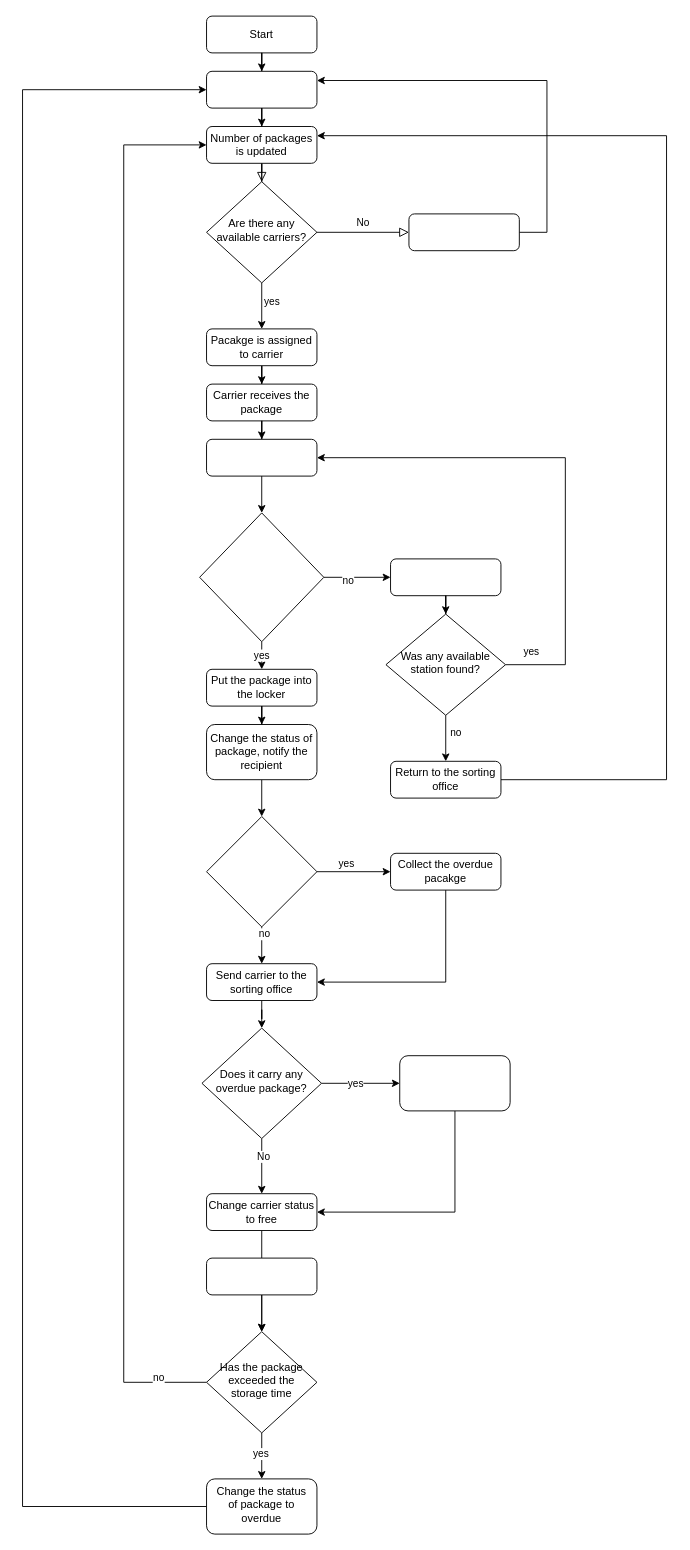
Some shapes in this 690 by 1550 pixel diagram are drawn without their labels. The box of each missing label's shape, as (x1, y1, x2, y2) in pixels:
Assign nearest package station: (390, 558, 501, 596)
Carrier flies to designated package station: (206, 438, 317, 476)
Delete the package from database: (399, 1055, 510, 1111)
Is there any package that is overdue>: (206, 816, 317, 927)
Is there available locker at package staton: (199, 512, 324, 642)
Monitor the status of packages in locker: (206, 1257, 317, 1295)
Package arrives at the sorting office: (206, 70, 317, 108)
Wait for next available one: (408, 213, 519, 251)
